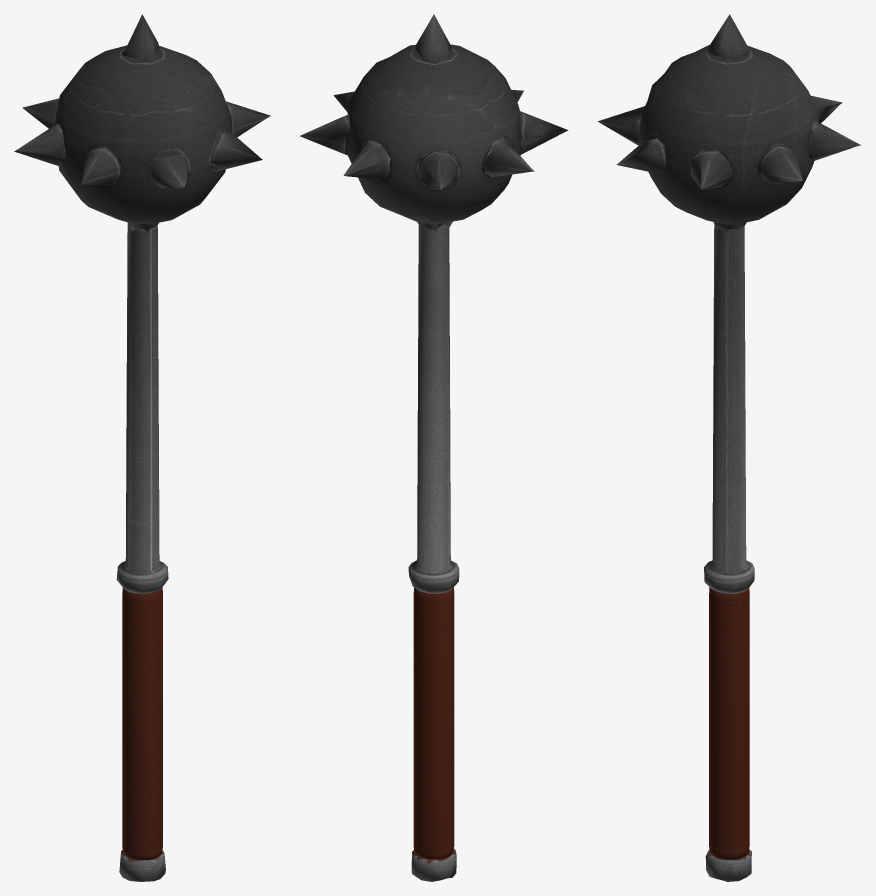
Rendered from mm6_fgt_mace.glb.
3 renders of one model, left to right at view 1: azimuth 30°, elevation 25°; view 2: azimuth 150°, elevation 25°; view 3: azimuth 270°, elevation 25°, orthographic.
Parts seen in each view (by area): view 1: Mace; view 2: Mace; view 3: Mace.
Part boxes in pixels (<box>): Mace: <box>14,14,270,881</box>; Mace: <box>300,14,568,881</box>; Mace: <box>598,14,860,881</box>.
Size of the model in its own units: 0.1566 by 0.5623 by 0.1564.
1 material, 1 textured.
